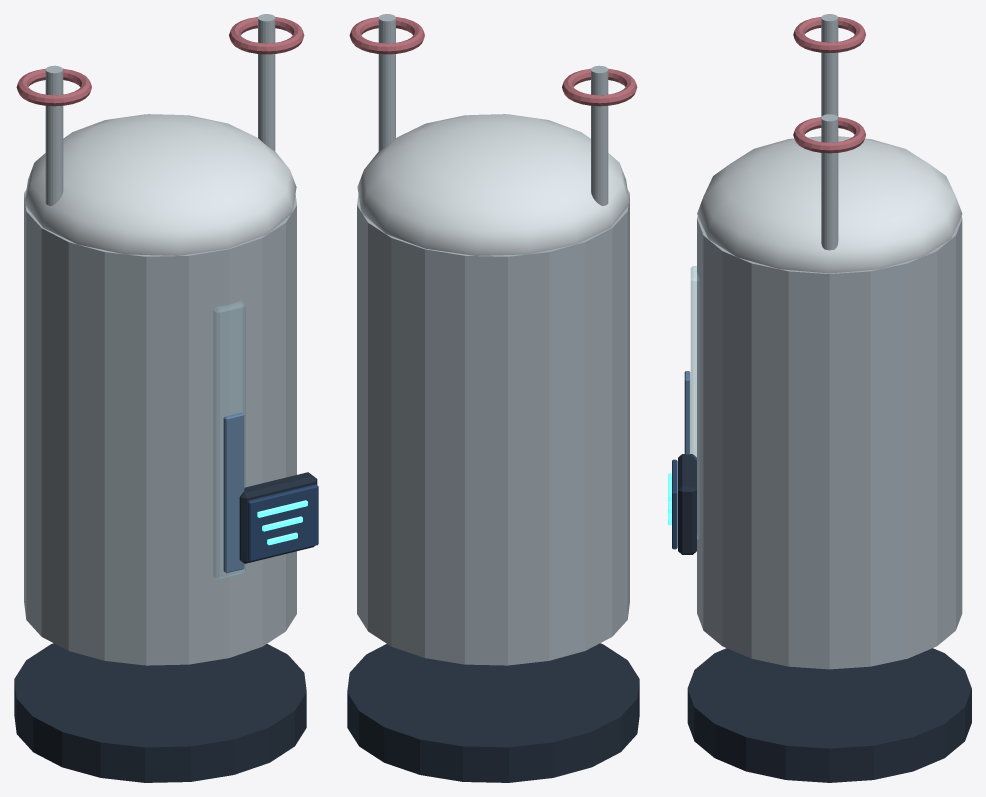
File: lab_07.glb
The picture shows the model from 3 angles, left to right: view 1: azimuth 30°, elevation 25°; view 2: azimuth 150°, elevation 25°; view 3: azimuth 270°, elevation 25°; orthographic projection. The views are drawn at different scales.
Visible parts, largest first — view 1: ReactionTank, TankFoot, TankDome, LevelWindow, FeedTube (×2), Screen, ValveWheel (×2), LevelLiquid, MonitorFrame; view 2: ReactionTank, TankFoot, TankDome, FeedTube (×2), ValveWheel (×2); view 3: ReactionTank, TankFoot, TankDome, FeedTube (×2), ValveWheel (×2), LevelWindow, MonitorFrame, LevelLiquid, Screen.
Part boxes in pixels (<box>): ReactionTank: <box>24,190,296,665</box>; TankFoot: <box>14,643,306,782</box>; TankDome: <box>24,114,296,255</box>; LevelWindow: <box>213,301,245,579</box>; FeedTube (×2): <box>45,14,275,205</box>; Screen: <box>247,484,318,561</box>; ValveWheel (×2): <box>16,17,304,106</box>; LevelLiquid: <box>223,412,244,573</box>; MonitorFrame: <box>239,472,317,563</box>; ReactionTank: <box>357,190,629,665</box>; TankFoot: <box>347,643,639,782</box>; TankDome: <box>357,114,629,255</box>; FeedTube (×2): <box>378,14,608,205</box>; ValveWheel (×2): <box>349,17,637,106</box>; ReactionTank: <box>697,216,962,669</box>; TankFoot: <box>687,648,971,782</box>; TankDome: <box>697,136,962,273</box>; FeedTube (×2): <box>821,14,838,250</box>; ValveWheel (×2): <box>793,17,865,153</box>; LevelWindow: <box>690,266,699,539</box>; MonitorFrame: <box>678,454,696,554</box>; LevelLiquid: <box>684,371,690,454</box>; Screen: <box>672,459,677,549</box>.
Bounding box in the file's own units: 0.654 × 1.53 × 0.641.
